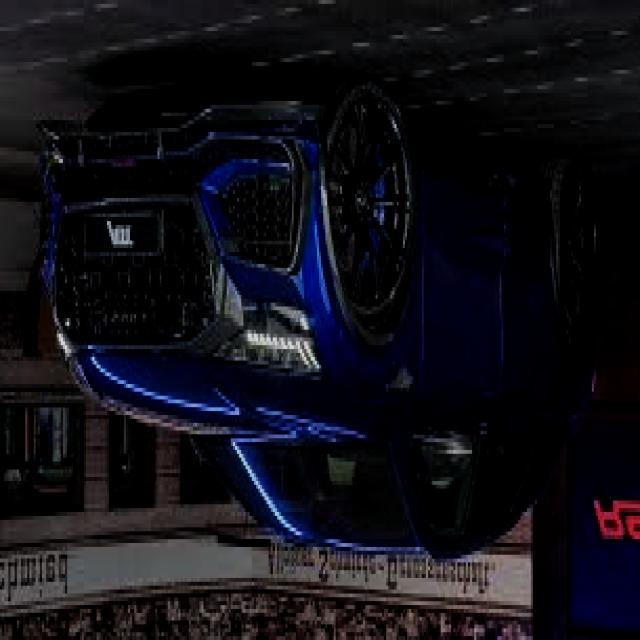blue: (53, 103, 598, 561)
